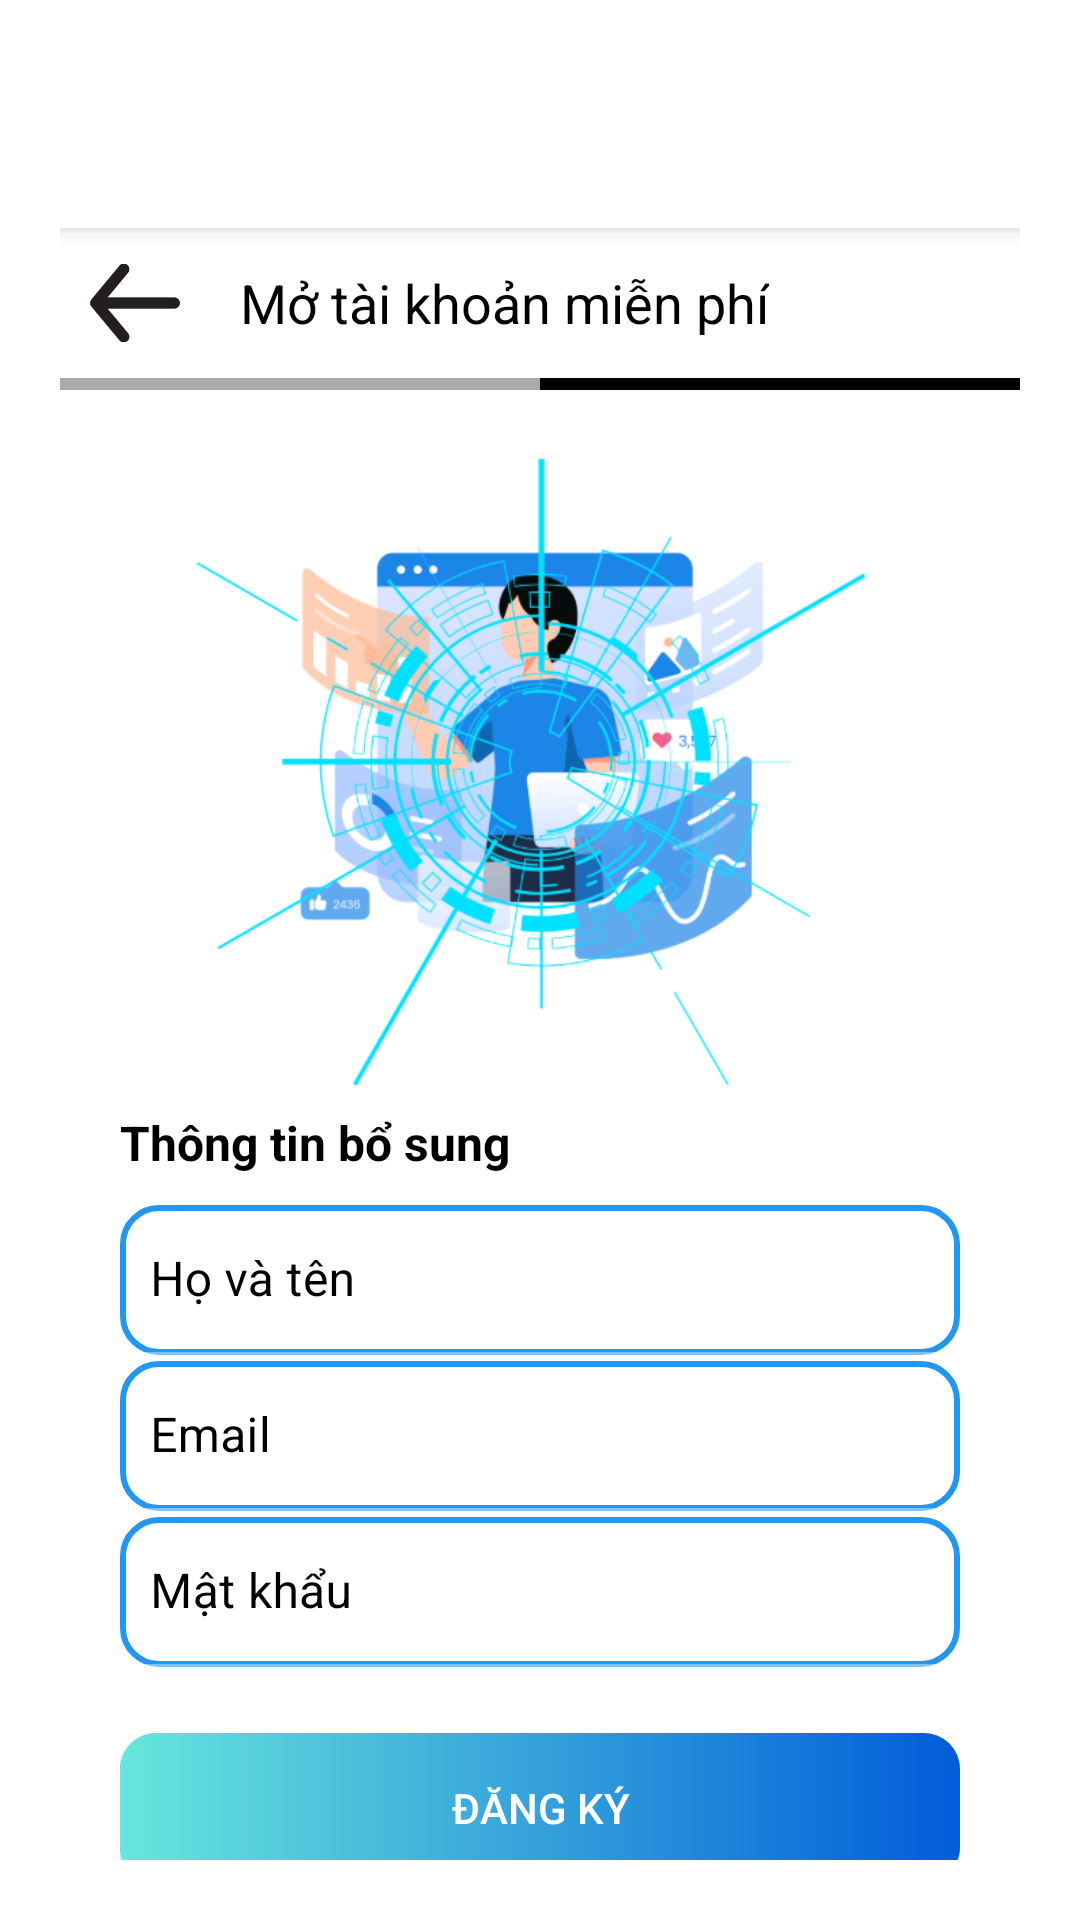

Named icons in this screenshot (1080*1920) and their bounding boxes, (x1, y1, x2, y2):
arrow back: (90, 264, 180, 342)
